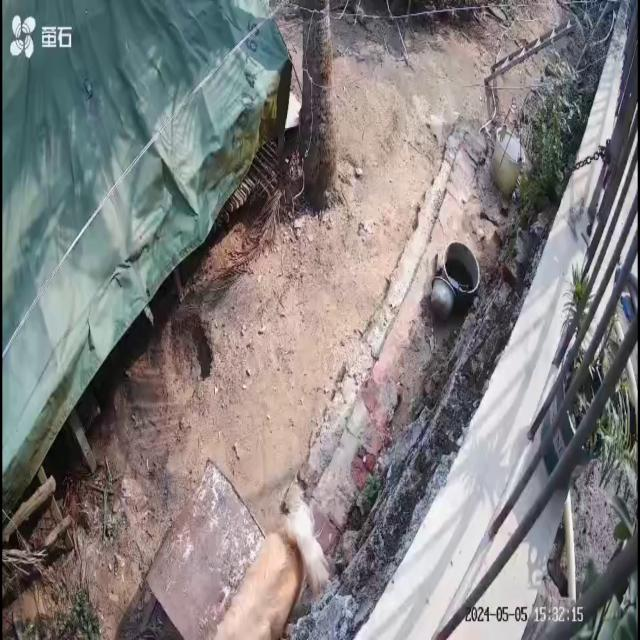dog: (211, 501, 331, 640)
